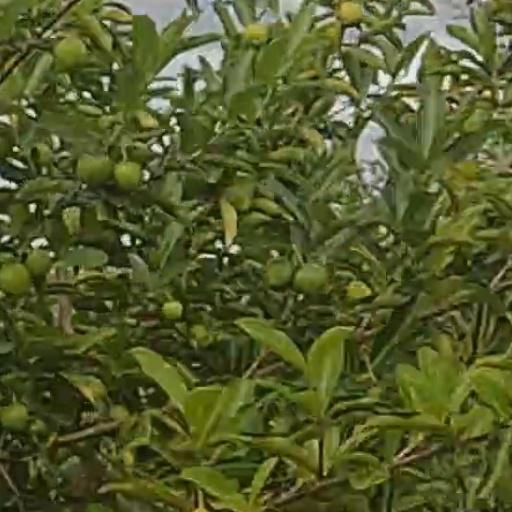acerola: (79, 155, 111, 186), (295, 266, 327, 294), (4, 266, 29, 294), (117, 162, 140, 188), (31, 253, 50, 274)
